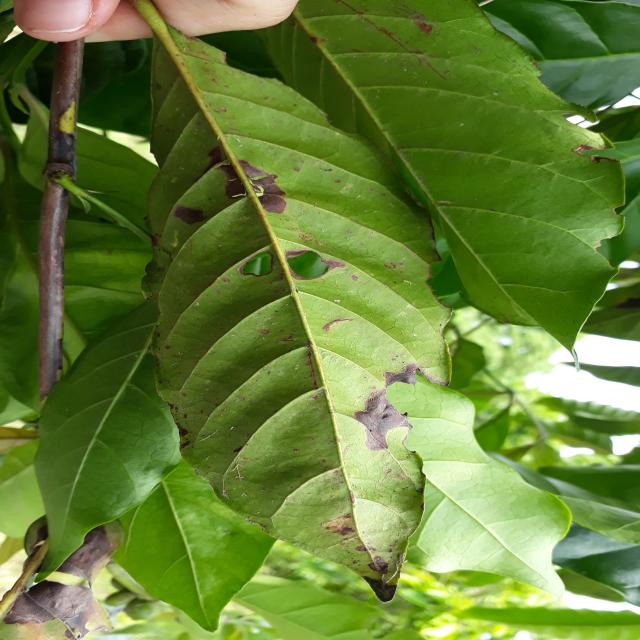Enfermedad-Roya: (139, 47, 453, 588)
